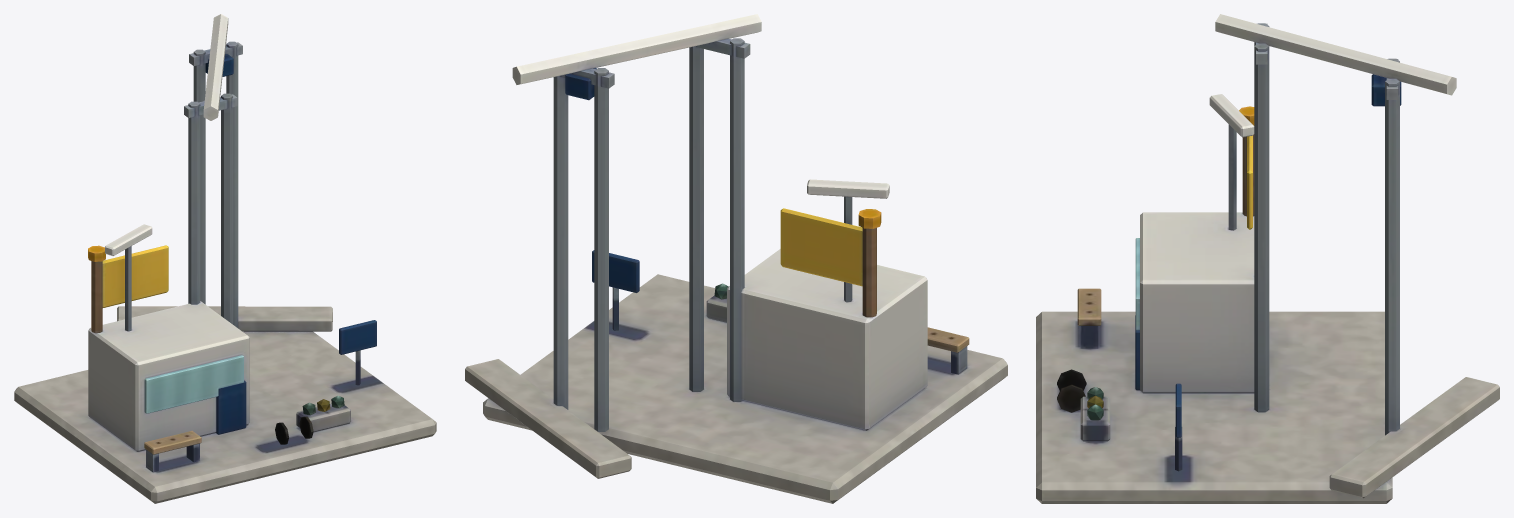
Rendered from harbor-25.glb.
3 renders of one model, left to right at view 1: azimuth 30°, elevation 25°; view 2: azimuth 150°, elevation 25°; view 3: azimuth 270°, elevation 25°, orthographic. The views are drawn at different scales.
Parts seen in each view (by area): view 1: harbor-25; view 2: harbor-25; view 3: harbor-25.
Part boxes in pixels (left/top/right/bottom): harbor-25: left=14, top=14, right=436, bottom=503; harbor-25: left=465, top=14, right=1007, bottom=503; harbor-25: left=1036, top=14, right=1499, bottom=503.
Bounding box in the file's own units: 1.51 × 1.48 × 1.56.
Materials: 1 (1 with a texture image).
